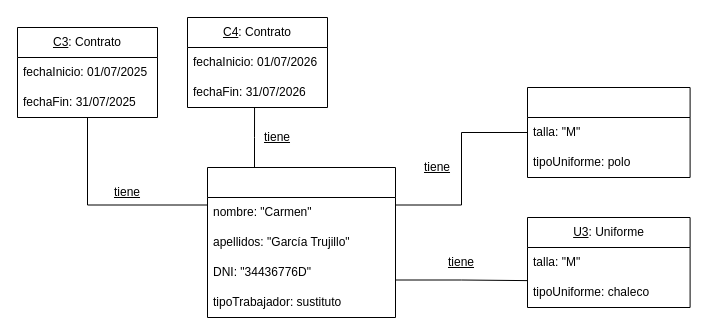
Some shapes in this 708 by 335 pixel diagram are drawn without their labels. The shapes that lost their labels are listed below. From the top down, each one's box as (x1, y1, x2, y2) in pixels, then its label:
(526, 86, 690, 178): U2 : Uniforme
(206, 166, 396, 318): T6 : Trabajador
